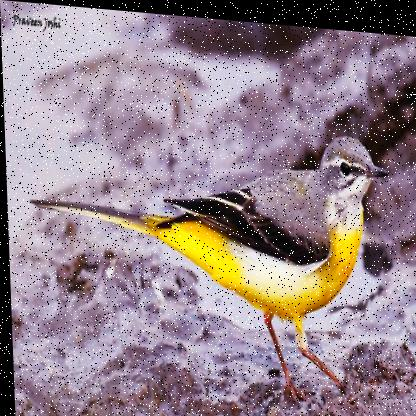Burung: (23, 107, 395, 405)
